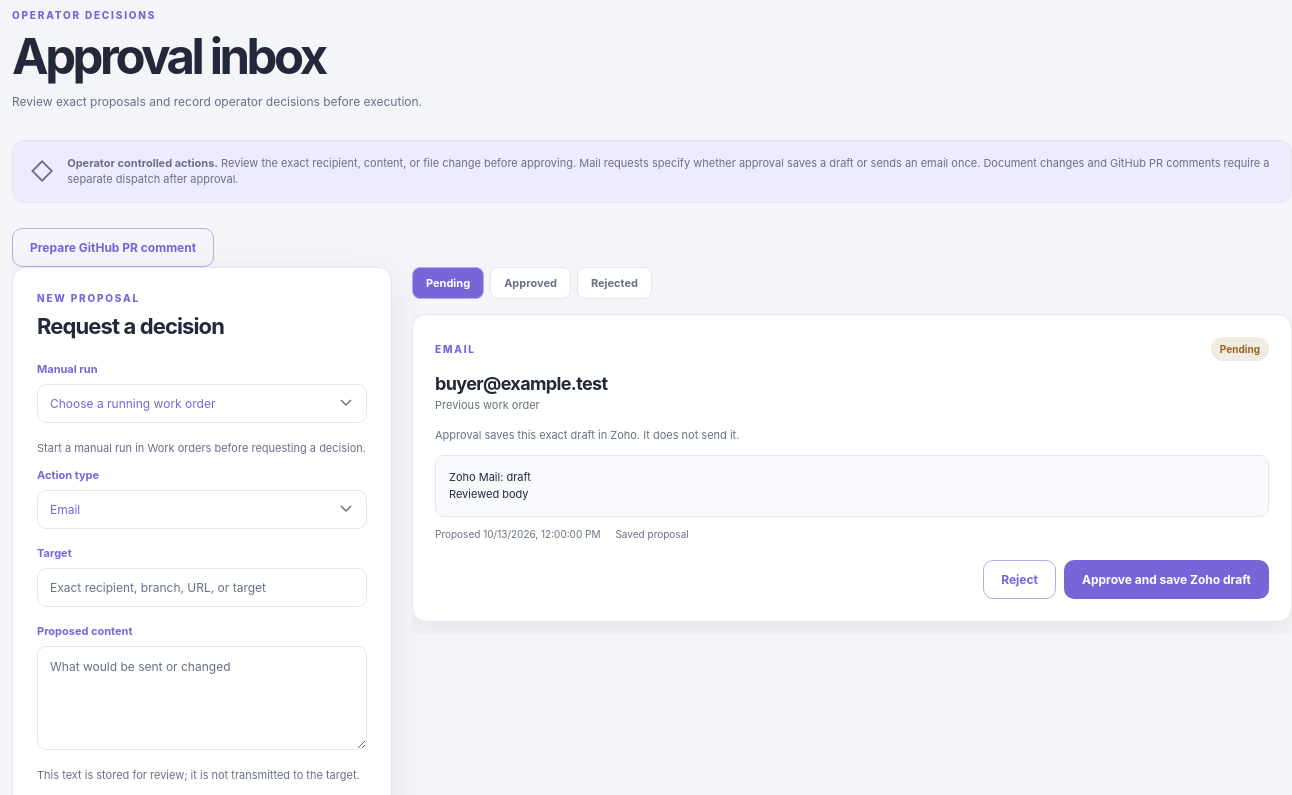
it: describes the draft side effect before approval and reads the receipt
Click the button "Approve and save Zoho draft" at (1166, 579), box [1064,560,1269,599]
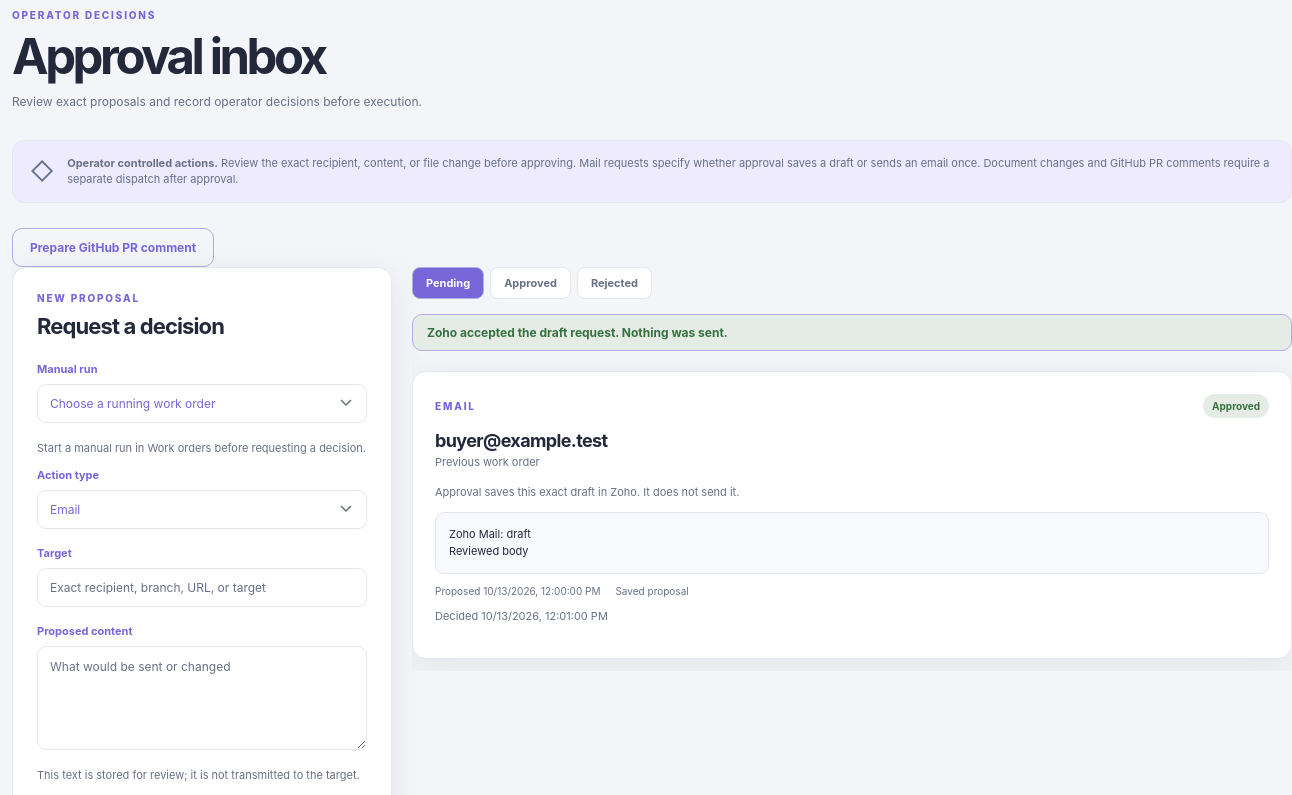
Expected: the text "Zoho accepted the draft request. Nothing was sent." is shown, [412,314,1291,350]
